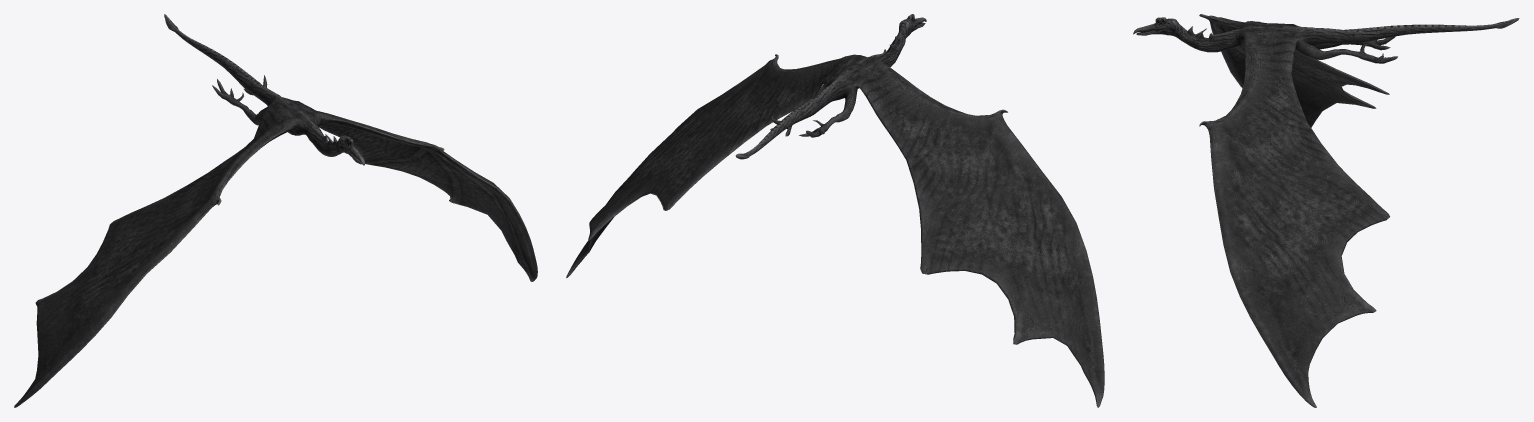
The model's file is Fellbeast_FlyAnim_32.obj.
3 renders of one model, left to right at view 1: azimuth 30°, elevation 25°; view 2: azimuth 150°, elevation 25°; view 3: azimuth 270°, elevation 25°, orthographic. The views are drawn at different scales.
Parts seen in each view (by area): view 1: Fellbeast; view 2: Fellbeast; view 3: Fellbeast.
Part boxes in pixels (x1,y1,x2,y2): Fellbeast: [14, 14, 537, 407]; Fellbeast: [566, 14, 1104, 407]; Fellbeast: [1133, 14, 1519, 407].
Bounding box in the file's own units: 6.84 × 3.32 × 4.4.
